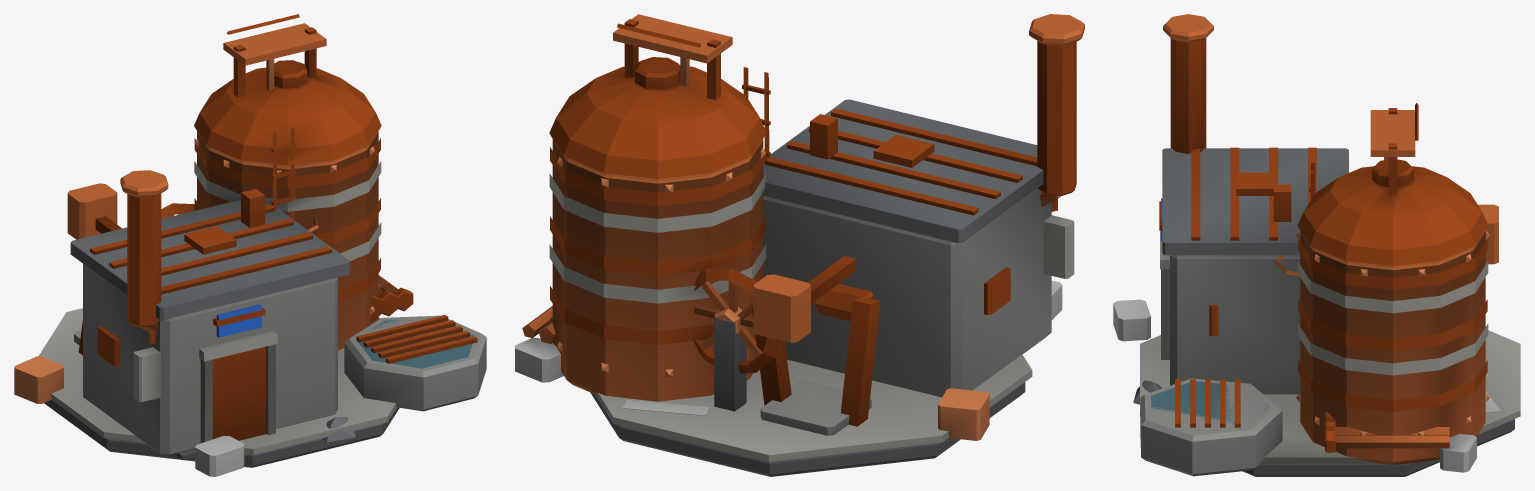
Rendered from n_pump.glb.
3 renders of one model, left to right at view 1: azimuth 30°, elevation 25°; view 2: azimuth 150°, elevation 25°; view 3: azimuth 270°, elevation 25°, orthographic. The views are drawn at different scales.
Visible parts, largest first — view 1: body; view 2: body, spinFlywheel; view 3: body.
Part boxes in pixels (x1,y1,x2,y2): body: (14,14,486,476); body: (515,14,1084,476); spinFlywheel: (693,267,779,373); body: (1113,14,1520,476).
Bounding box in the file's own units: 2.96 × 2.36 × 2.73.
